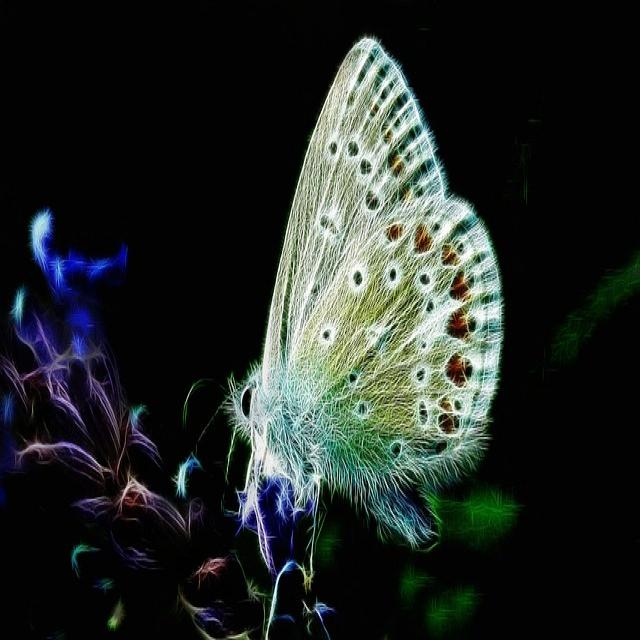butterfly: (217, 33, 506, 584)
